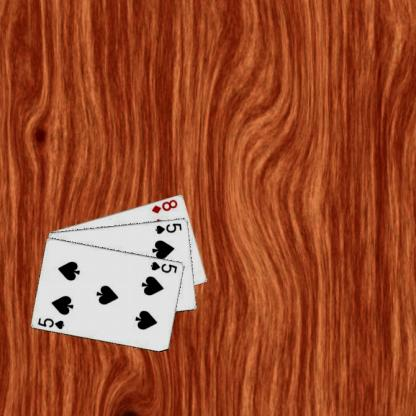5S: (153, 220, 183, 235), (148, 259, 178, 274), (35, 316, 66, 330)
8D: (149, 197, 179, 214)
